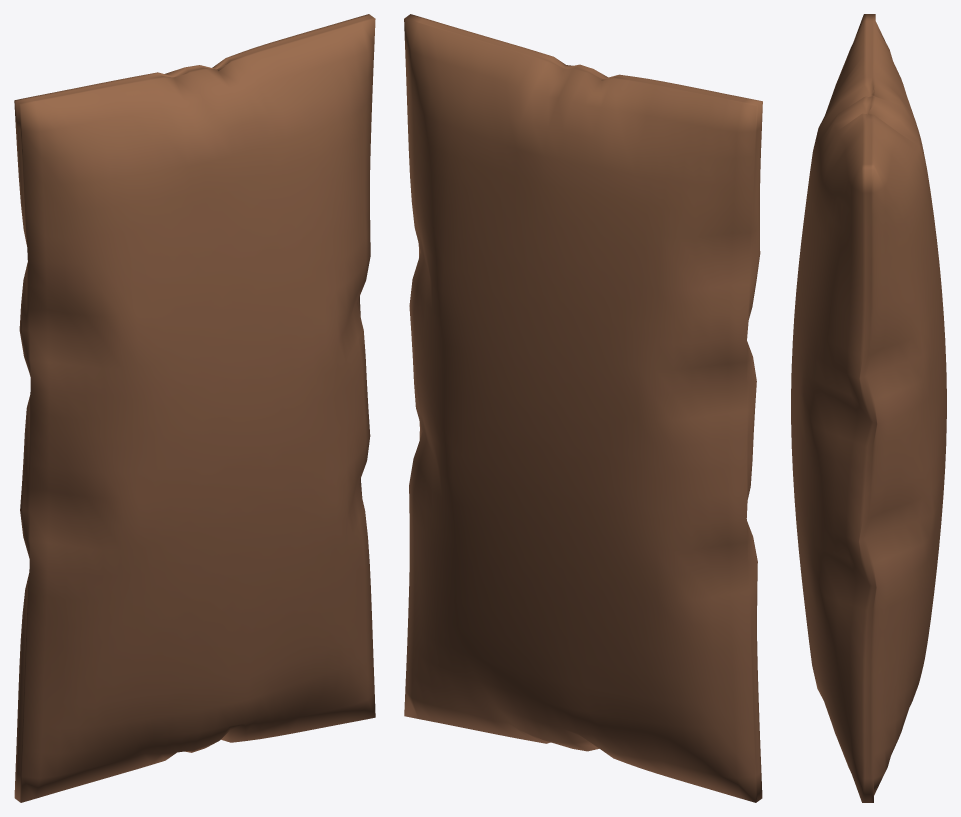
File: Bag.fbx
3 views of the same model, side by side, from view 1: azimuth 30°, elevation 25°; view 2: azimuth 150°, elevation 25°; view 3: azimuth 270°, elevation 25° (orthographic). The views are drawn at different scales.
Parts seen in each view (by area): view 1: Bag; view 2: Bag; view 3: Bag.
Part boxes in pixels (<box>): Bag: <box>14,14,375,802</box>; Bag: <box>404,14,762,802</box>; Bag: <box>791,14,946,802</box>.
Size of the model in its own units: 81.31 by 153 by 34.24.
